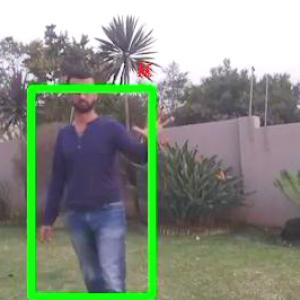follow_hand: (131, 102, 177, 146)
